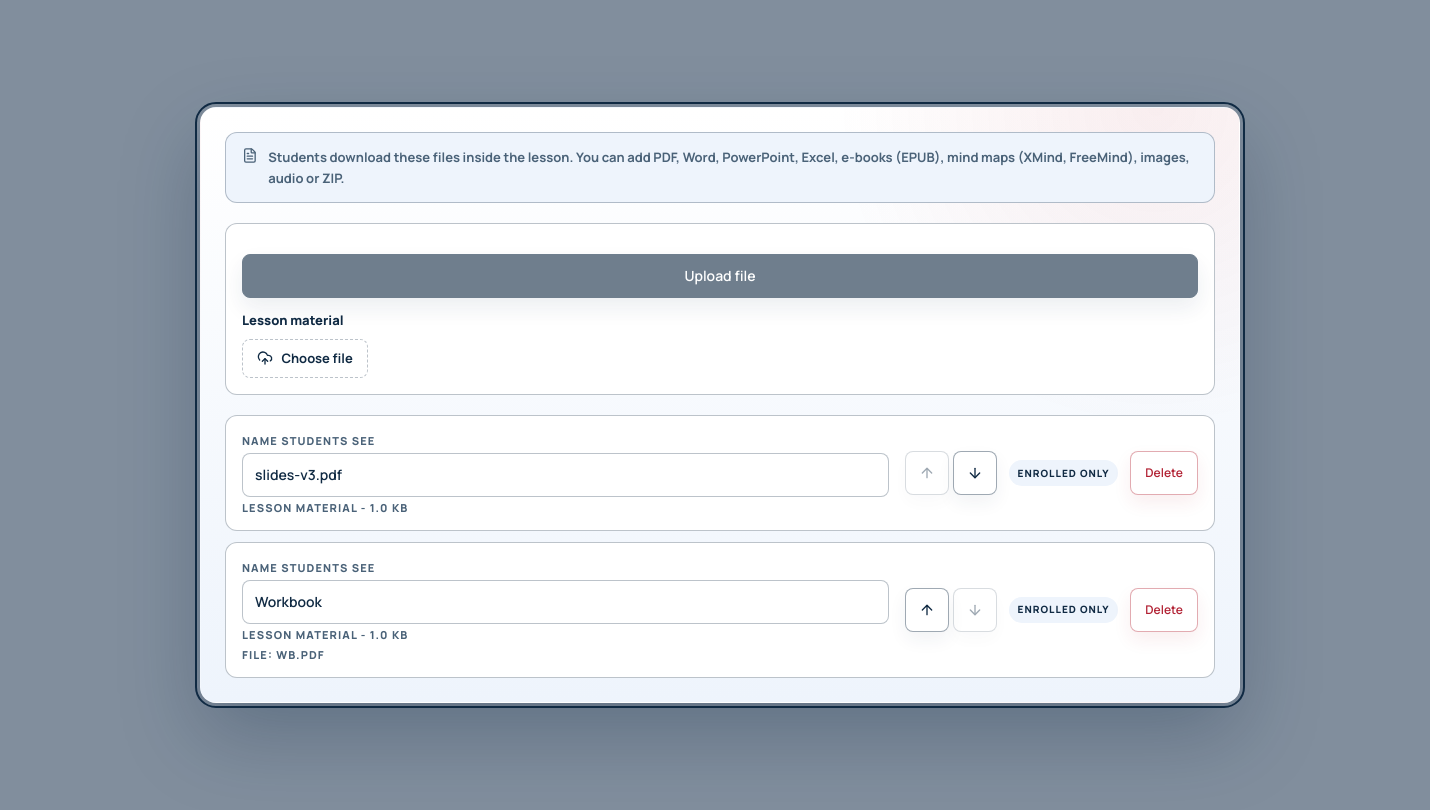
nome e ordem dos materiais › o professor sobe o arquivo na lista; só a nova ordem vai ao banco
Click the button named "Move \"Workbook\" up". click: (927, 610)
box: [905,588,949,632]
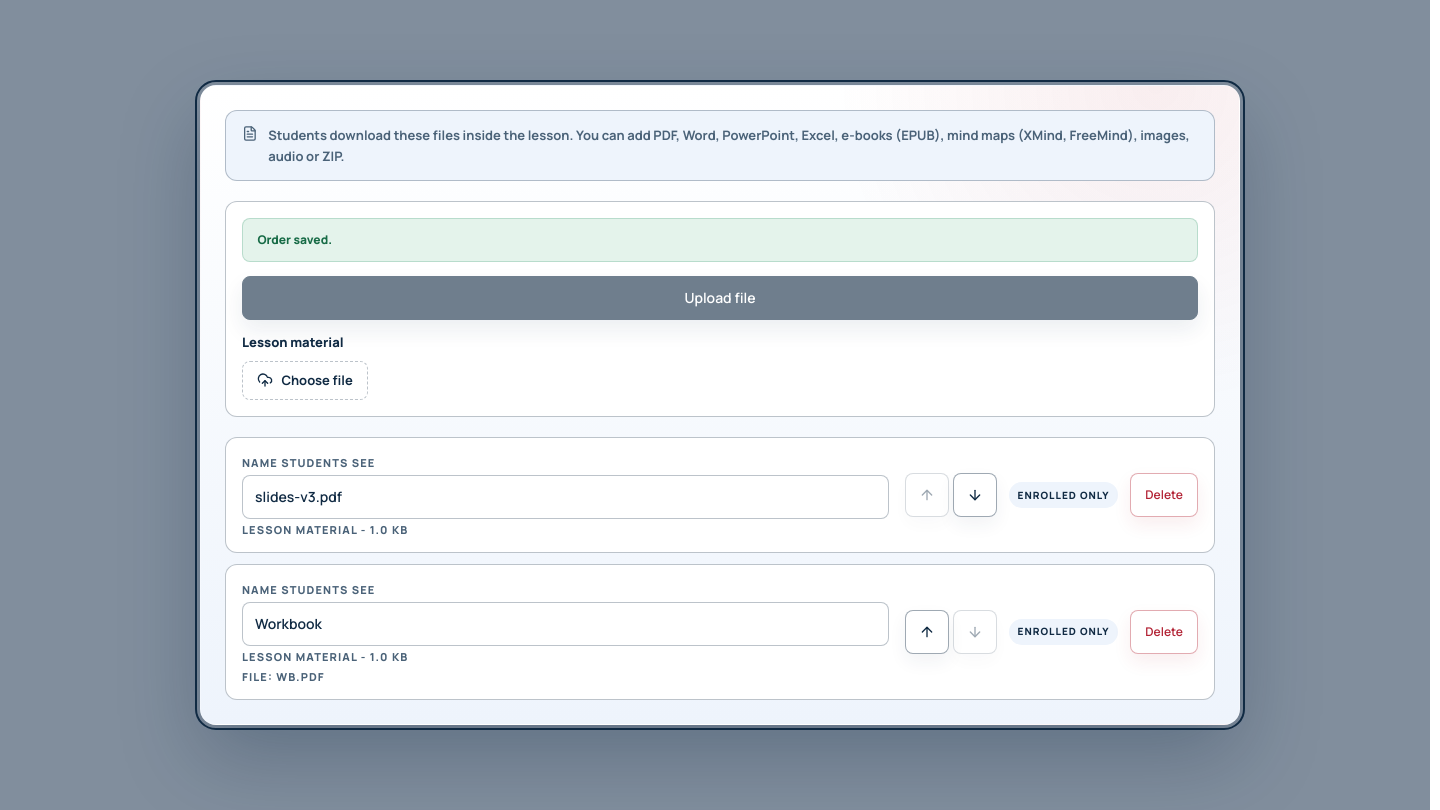
Expected: the text "Order saved." is shown, [242,218,1198,262]
